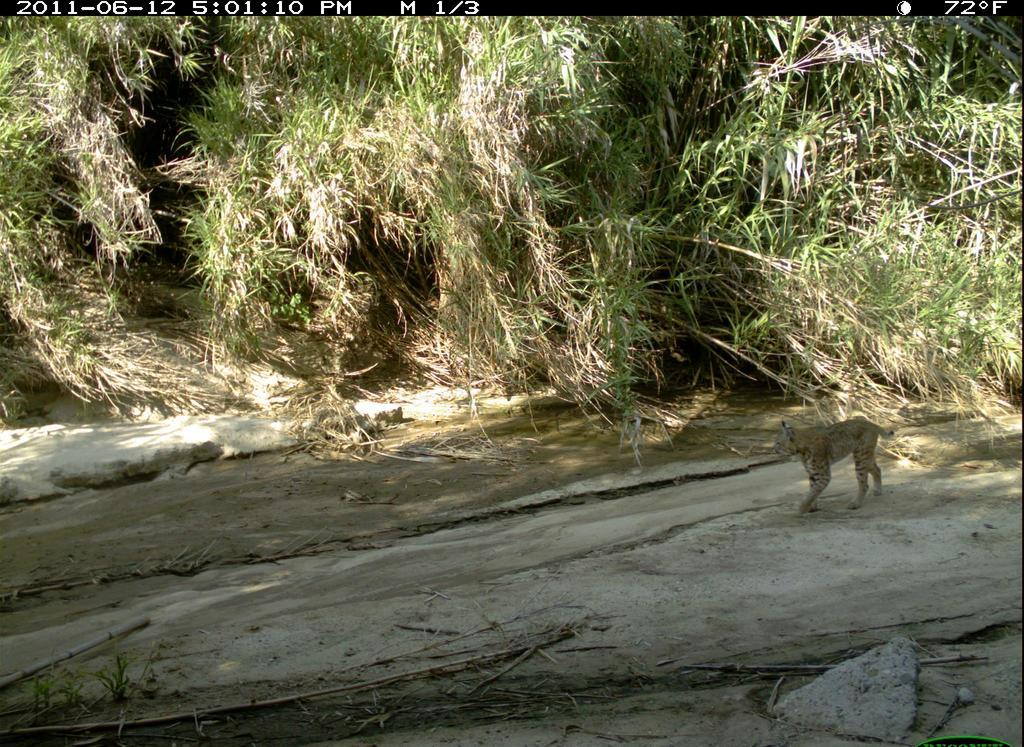bobcat: (766, 405, 905, 530)
